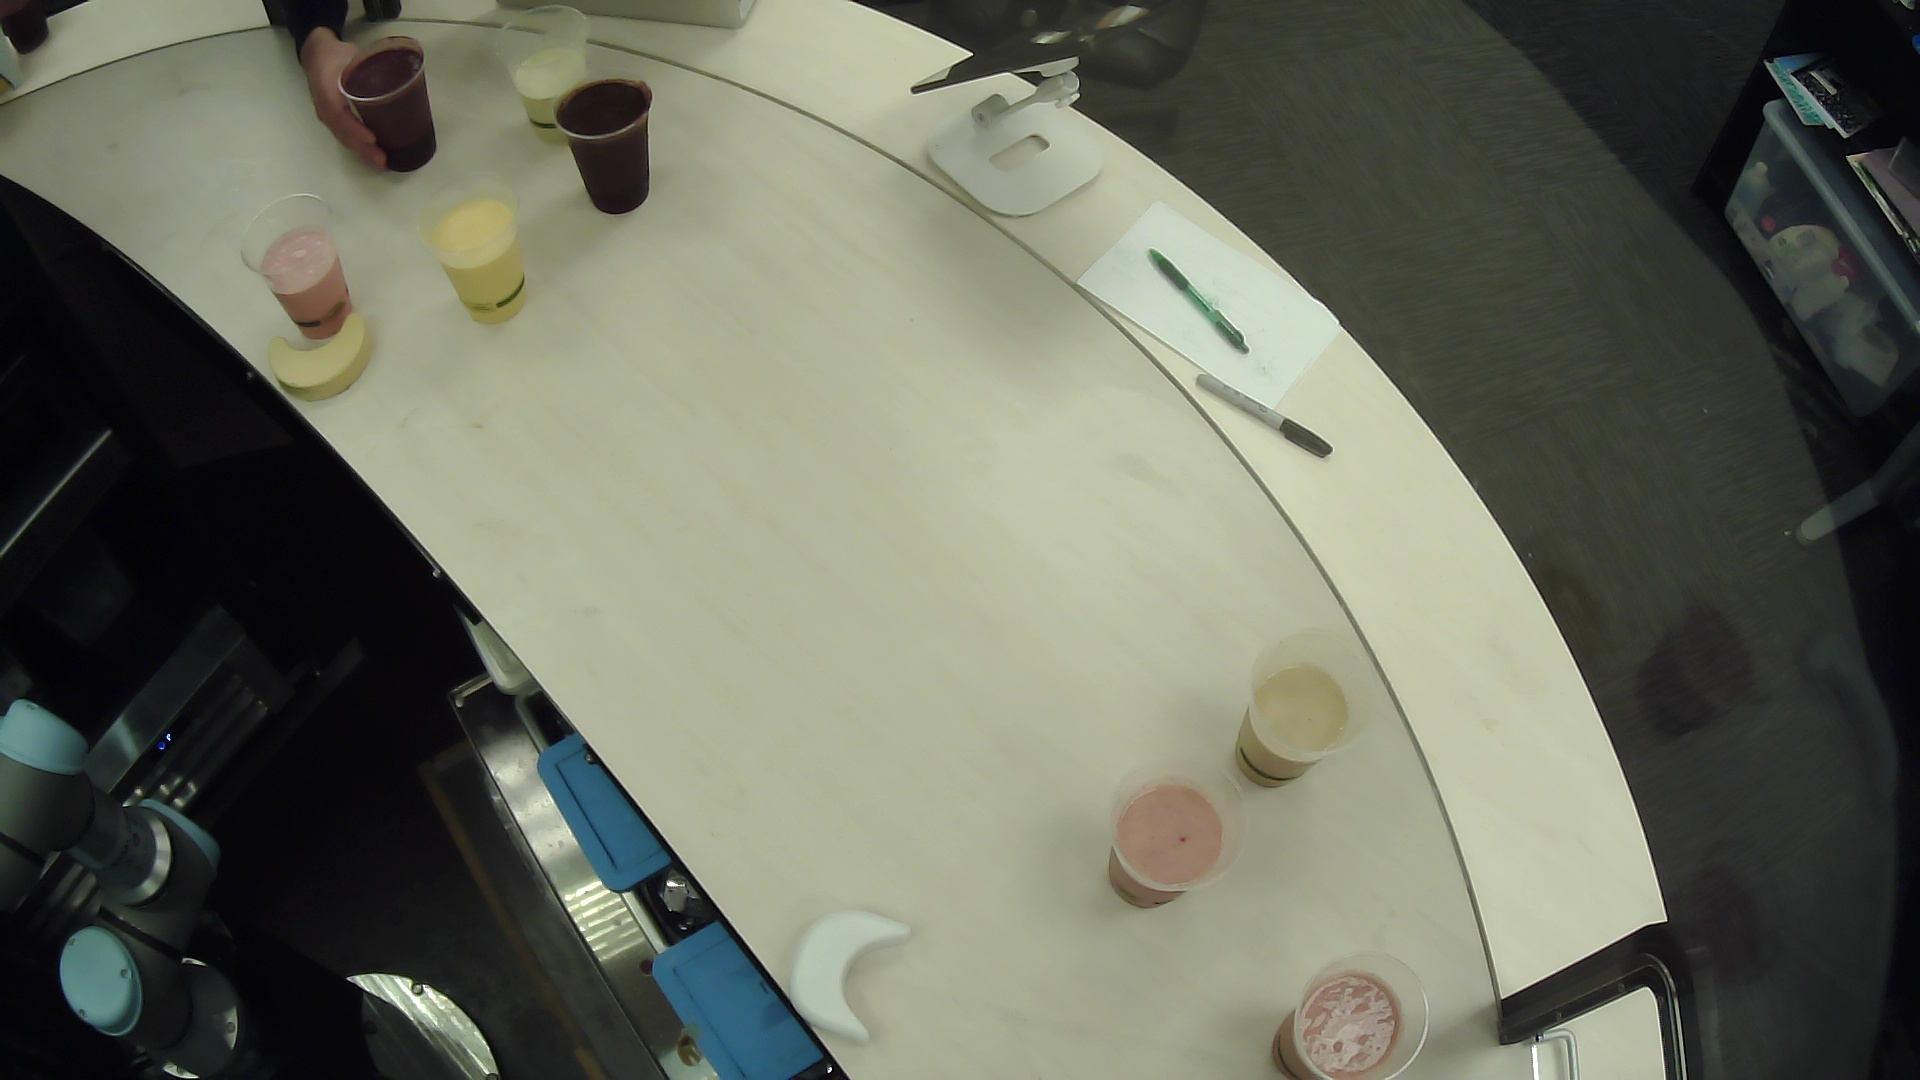Deliver: (775, 895, 934, 1052), (253, 299, 398, 400)
Full_cup: (1204, 626, 1408, 803), (1091, 748, 1273, 930), (1261, 940, 1447, 1080), (402, 179, 555, 336), (239, 186, 378, 351), (485, 1, 620, 171), (543, 71, 680, 224), (322, 28, 456, 179)
